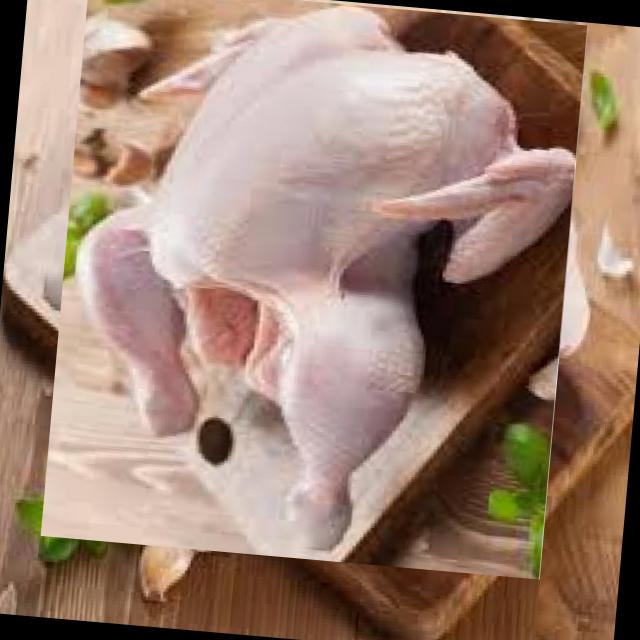chicken: (27, 0, 600, 567)
